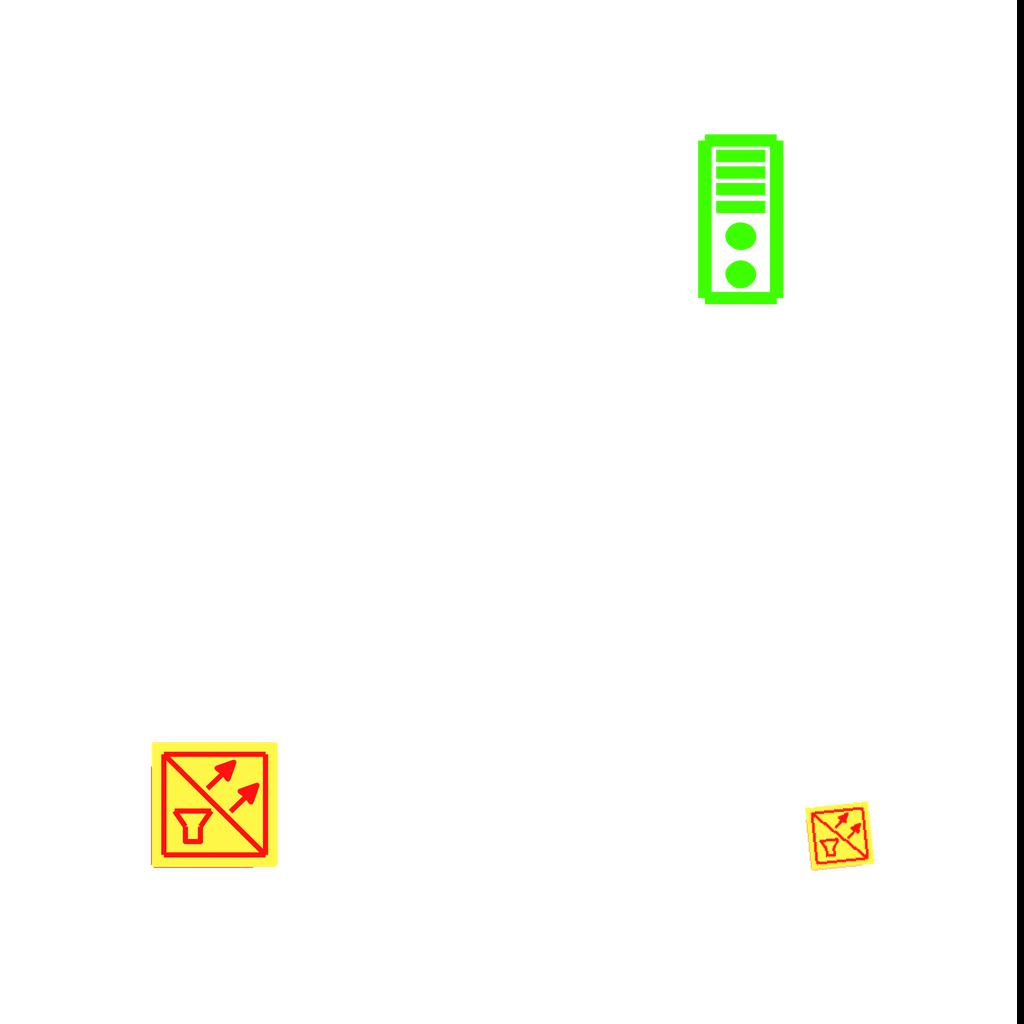Gegensprechanlage_mit_Video: (695, 132, 790, 308)
OKW_Multisensormelder_(Kombination_optischer_Rauch-Kahlenmonoxid_Waerme-Melder): (149, 739, 281, 871), (803, 799, 877, 873)
